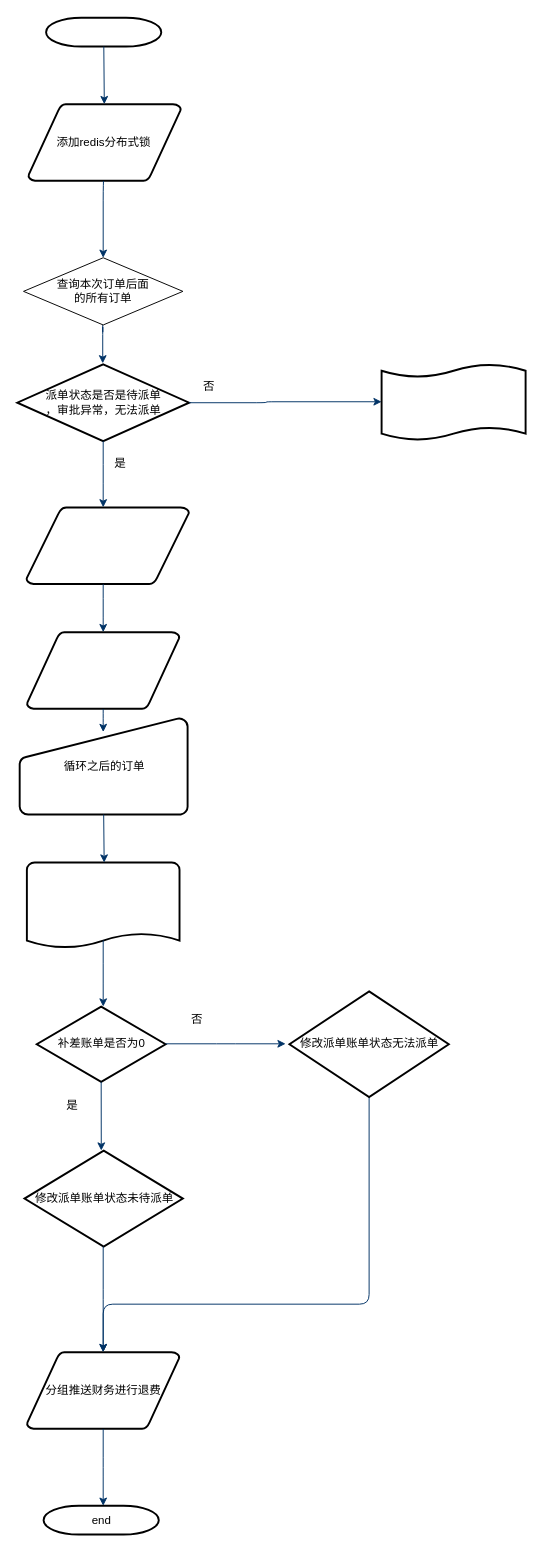
The diagram is 543 pixels wide and 1551 high, and some of its shapes have lost their labels. Each missing label, with the box of its shape:
对批次订单表进行作废处理， 逻辑删除: (25, 861, 180, 949)
抛出异常（无法编辑）: (380, 362, 526, 442)
查询当时记录的累计值: (25, 506, 190, 585)
派单编辑开始: (45, 16, 162, 47)
重新计算累计值: (25, 631, 180, 709)
